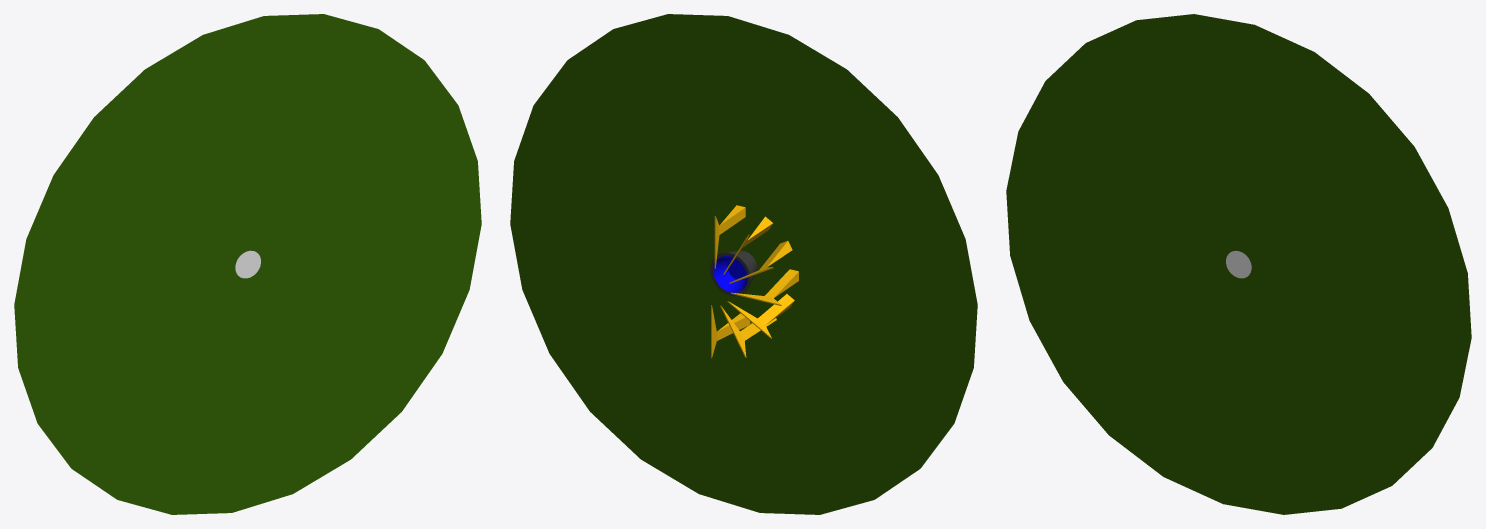
Rendered from temple3.obj.
3 renders of one model, left to right at view 1: azimuth 30°, elevation 25°; view 2: azimuth 150°, elevation 25°; view 3: azimuth 330°, elevation 25°, orthographic.
Visible parts, largest first — view 1: Mesh8 Model, Mesh9 Model; view 2: Mesh8 Model, Mesh9 Model, Mesh5 Model, Mesh4 Model, Mesh1 Model, Mesh7 Model, Mesh6 Model; view 3: Mesh8 Model, Mesh9 Model.
Boxes of the visible parts, x1=… form: Mesh8 Model: x1=14, y1=14, x2=481, y2=514; Mesh9 Model: x1=235, y1=250, x2=260, y2=278; Mesh8 Model: x1=510, y1=14, x2=977, y2=514; Mesh9 Model: x1=710, y1=250, x2=756, y2=295; Mesh5 Model: x1=727, y1=294, x2=794, y2=338; Mesh4 Model: x1=731, y1=269, x2=798, y2=305; Mesh1 Model: x1=714, y1=205, x2=745, y2=268; Mesh7 Model: x1=711, y1=305, x2=750, y2=358; Mesh6 Model: x1=720, y1=305, x2=776, y2=357; Mesh8 Model: x1=1006, y1=14, x2=1471, y2=514; Mesh9 Model: x1=1226, y1=250, x2=1251, y2=278.
Bounding box in the file's own units: 30.23 × 30.23 × 3.46.
